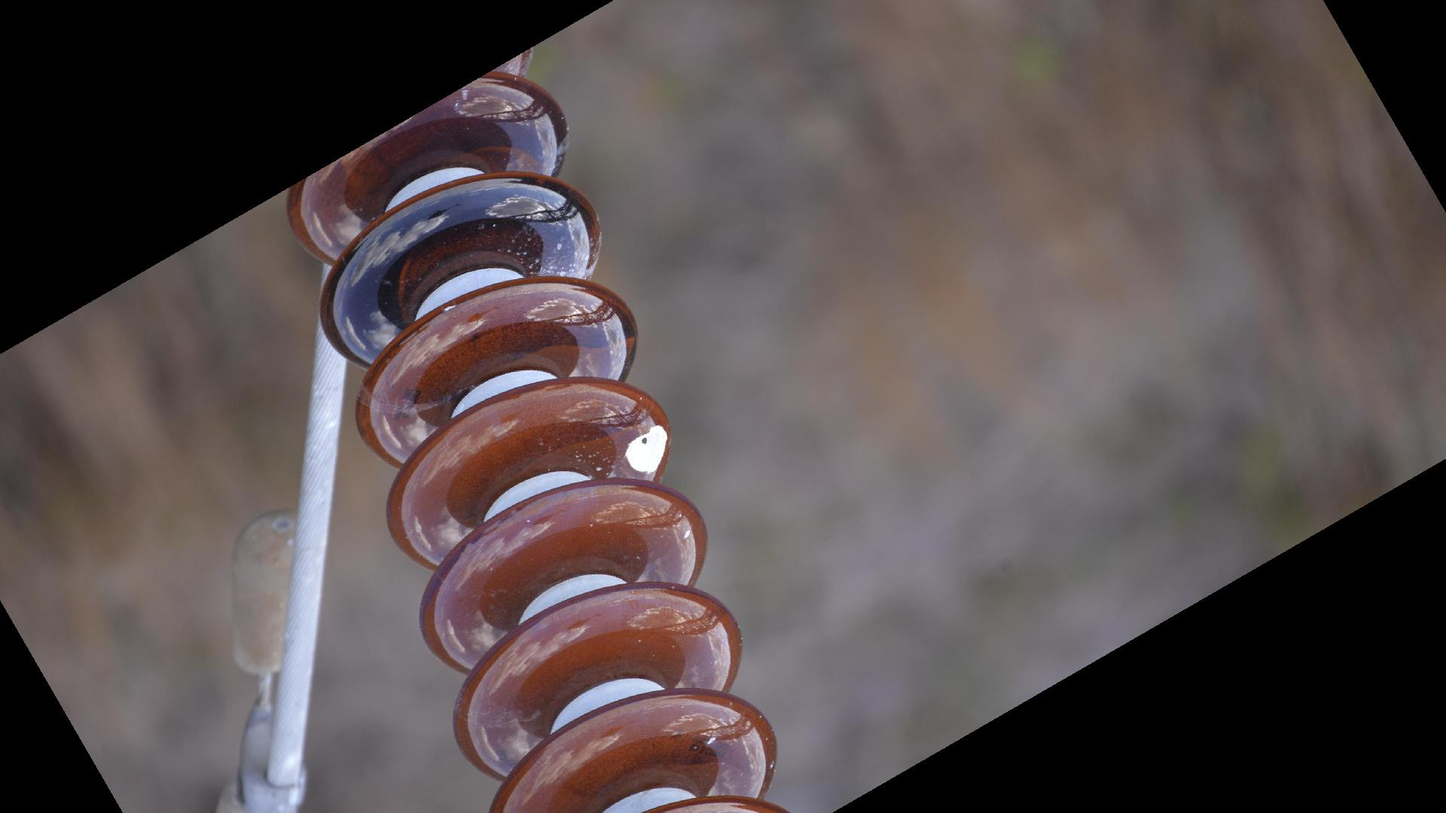insulator: (279, 43, 795, 813)
insulator_breakage: (619, 419, 675, 477)
